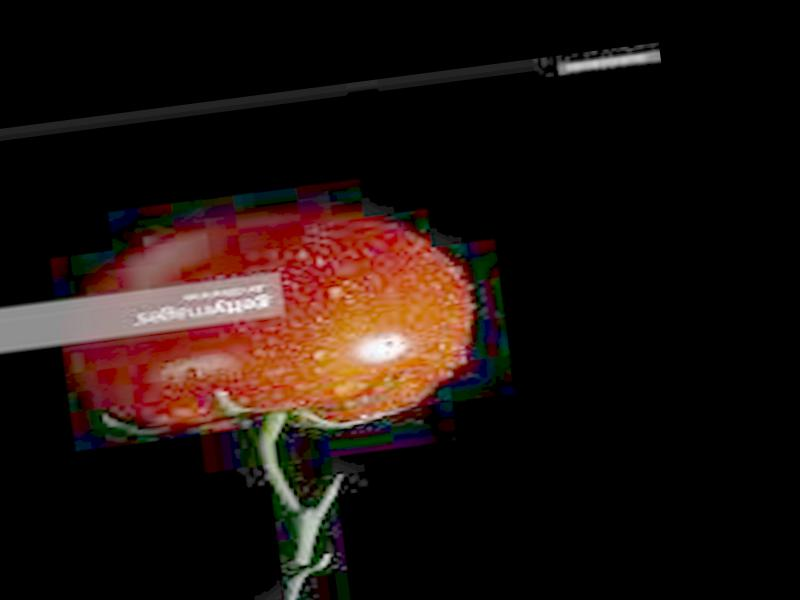Tomato: (68, 195, 482, 452)
